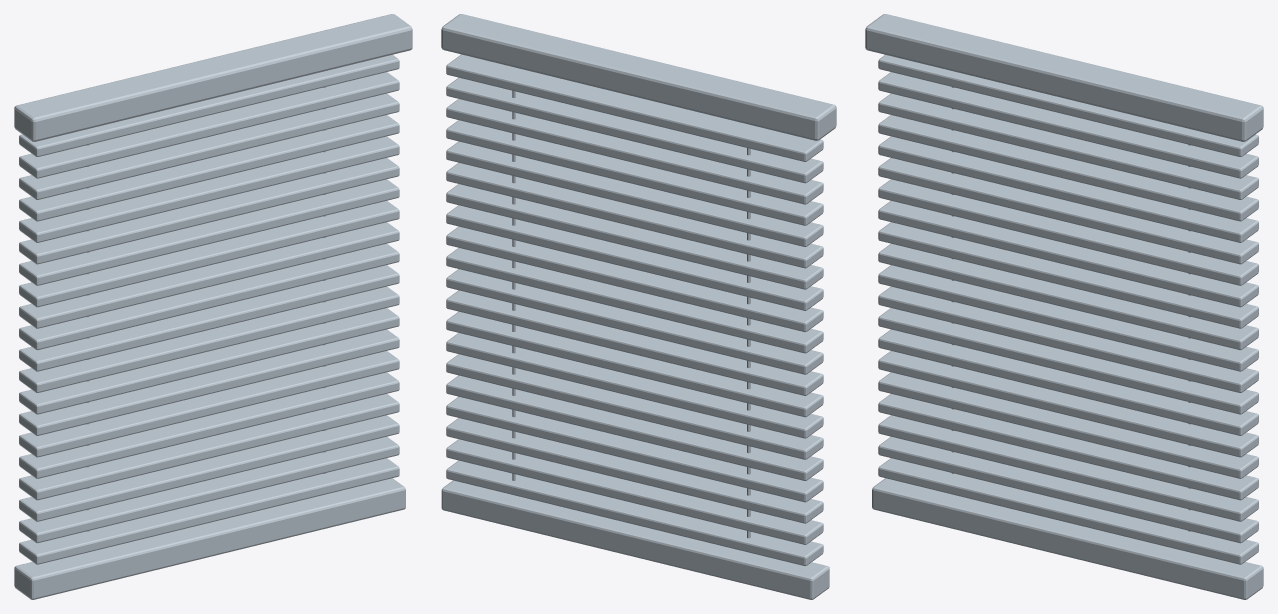
Rendered from static_blind.glb.
3 views of the same model, side by side, from view 1: azimuth 30°, elevation 25°; view 2: azimuth 150°, elevation 25°; view 3: azimuth 330°, elevation 25° (orthographic).
Visible parts, largest first — view 1: blind_head_rail, blind_bottom_rail, blind_slat_03, blind_slat_07, blind_slat_14, blind_slat_12, blind_slat_09, blind_slat_16, blind_slat_17, blind_slat_18, blind_slat_19, blind_slat_01 (+10 smaller); view 2: blind_head_rail, blind_bottom_rail, blind_slat_00, blind_slat_07, blind_slat_03, blind_slat_04, blind_slat_05, blind_slat_12, blind_slat_13, blind_slat_06, blind_slat_08, blind_slat_15 (+12 smaller); view 3: blind_head_rail, blind_bottom_rail, blind_slat_03, blind_slat_07, blind_slat_14, blind_slat_12, blind_slat_09, blind_slat_16, blind_slat_17, blind_slat_18, blind_slat_19, blind_slat_01 (+10 smaller).
Part boxes in pixels (x1=…): blind_head_rail: x1=14, y1=14, x2=412, y2=141; blind_bottom_rail: x1=14, y1=478, x2=405, y2=599; blind_slat_03: x1=19, y1=115, x2=399, y2=221; blind_slat_07: x1=19, y1=200, x2=399, y2=307; blind_slat_14: x1=19, y1=351, x2=399, y2=457; blind_slat_12: x1=19, y1=308, x2=399, y2=414; blind_slat_09: x1=19, y1=243, x2=399, y2=350; blind_slat_16: x1=19, y1=394, x2=399, y2=500; blind_slat_17: x1=19, y1=415, x2=399, y2=521; blind_slat_18: x1=19, y1=436, x2=399, y2=543; blind_slat_19: x1=19, y1=458, x2=399, y2=564; blind_slat_01: x1=19, y1=72, x2=399, y2=178; blind_head_rail: x1=441, y1=14, x2=836, y2=140; blind_bottom_rail: x1=441, y1=480, x2=829, y2=599; blind_slat_00: x1=446, y1=54, x2=823, y2=161; blind_slat_07: x1=446, y1=205, x2=823, y2=310; blind_slat_03: x1=446, y1=120, x2=823, y2=225; blind_slat_04: x1=446, y1=141, x2=823, y2=246; blind_slat_05: x1=446, y1=162, x2=823, y2=268; blind_slat_12: x1=446, y1=311, x2=823, y2=417; blind_slat_13: x1=446, y1=333, x2=823, y2=438; blind_slat_06: x1=446, y1=184, x2=823, y2=289; blind_slat_08: x1=446, y1=226, x2=823, y2=332; blind_slat_15: x1=446, y1=375, x2=823, y2=480; blind_head_rail: x1=865, y1=14, x2=1263, y2=141; blind_bottom_rail: x1=872, y1=478, x2=1263, y2=599; blind_slat_03: x1=878, y1=115, x2=1258, y2=221; blind_slat_07: x1=878, y1=200, x2=1258, y2=307; blind_slat_14: x1=878, y1=351, x2=1258, y2=457; blind_slat_12: x1=878, y1=308, x2=1258, y2=414; blind_slat_09: x1=878, y1=243, x2=1258, y2=350; blind_slat_16: x1=878, y1=394, x2=1258, y2=500; blind_slat_17: x1=878, y1=415, x2=1258, y2=521; blind_slat_18: x1=878, y1=436, x2=1258, y2=543; blind_slat_19: x1=878, y1=458, x2=1258, y2=564; blind_slat_01: x1=878, y1=72, x2=1258, y2=178.
Bounding box in the file's own units: 1.32 × 1.61 × 0.14.
